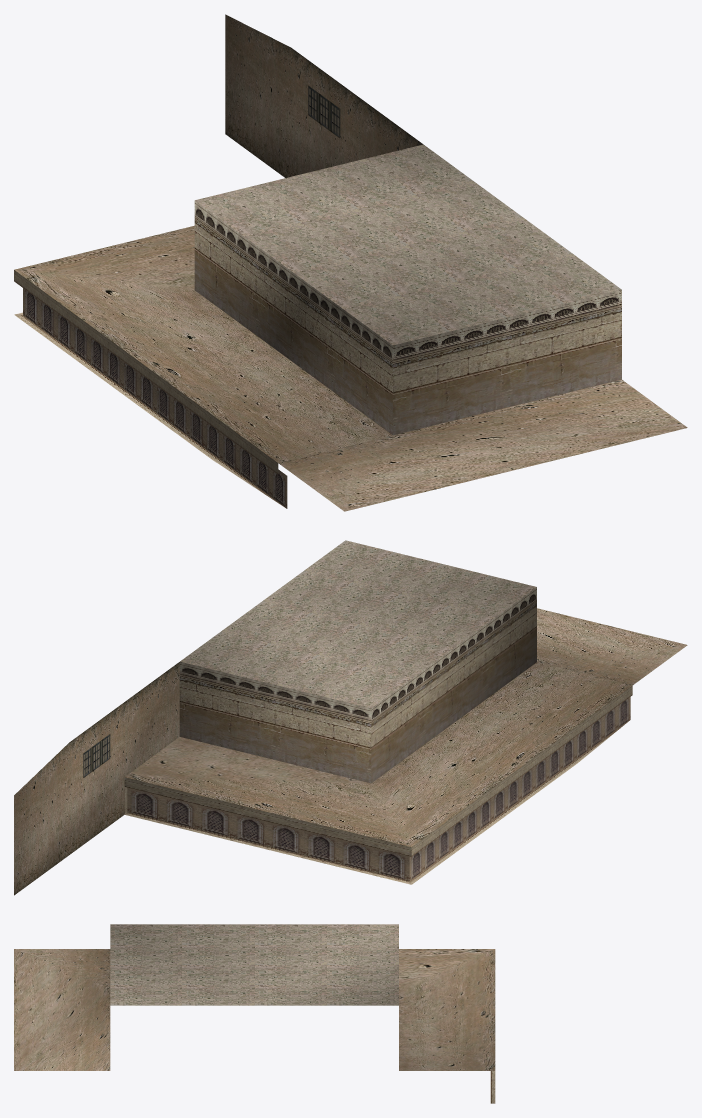
The model's file is M11Z1_TownWall07_C.glb.
3 views of the same model, one above another, from view 1: azimuth 30°, elevation 25°; view 2: azimuth 150°, elevation 25°; view 3: azimuth 270°, elevation 25° (orthographic). The views are drawn at different scales.
Visible parts, largest first — view 1: M11Z1_TOWNWALL07_C; view 2: M11Z1_TOWNWALL07_C; view 3: M11Z1_TOWNWALL07_C.
Boxes of the visible parts, <box> form: M11Z1_TOWNWALL07_C: <box>14,14,687,511</box>; M11Z1_TOWNWALL07_C: <box>14,540,687,895</box>; M11Z1_TOWNWALL07_C: <box>14,924,495,1103</box>.
Size of the model in its own units: 24 by 9 by 56.
Materials: 6 (6 with a texture image).
